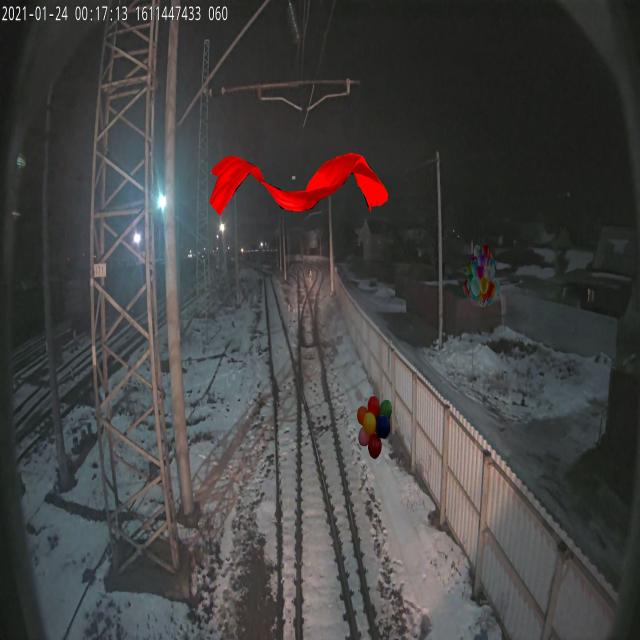balloon: (463, 243, 500, 307), (357, 396, 392, 460)
floating object: (209, 152, 388, 216)
